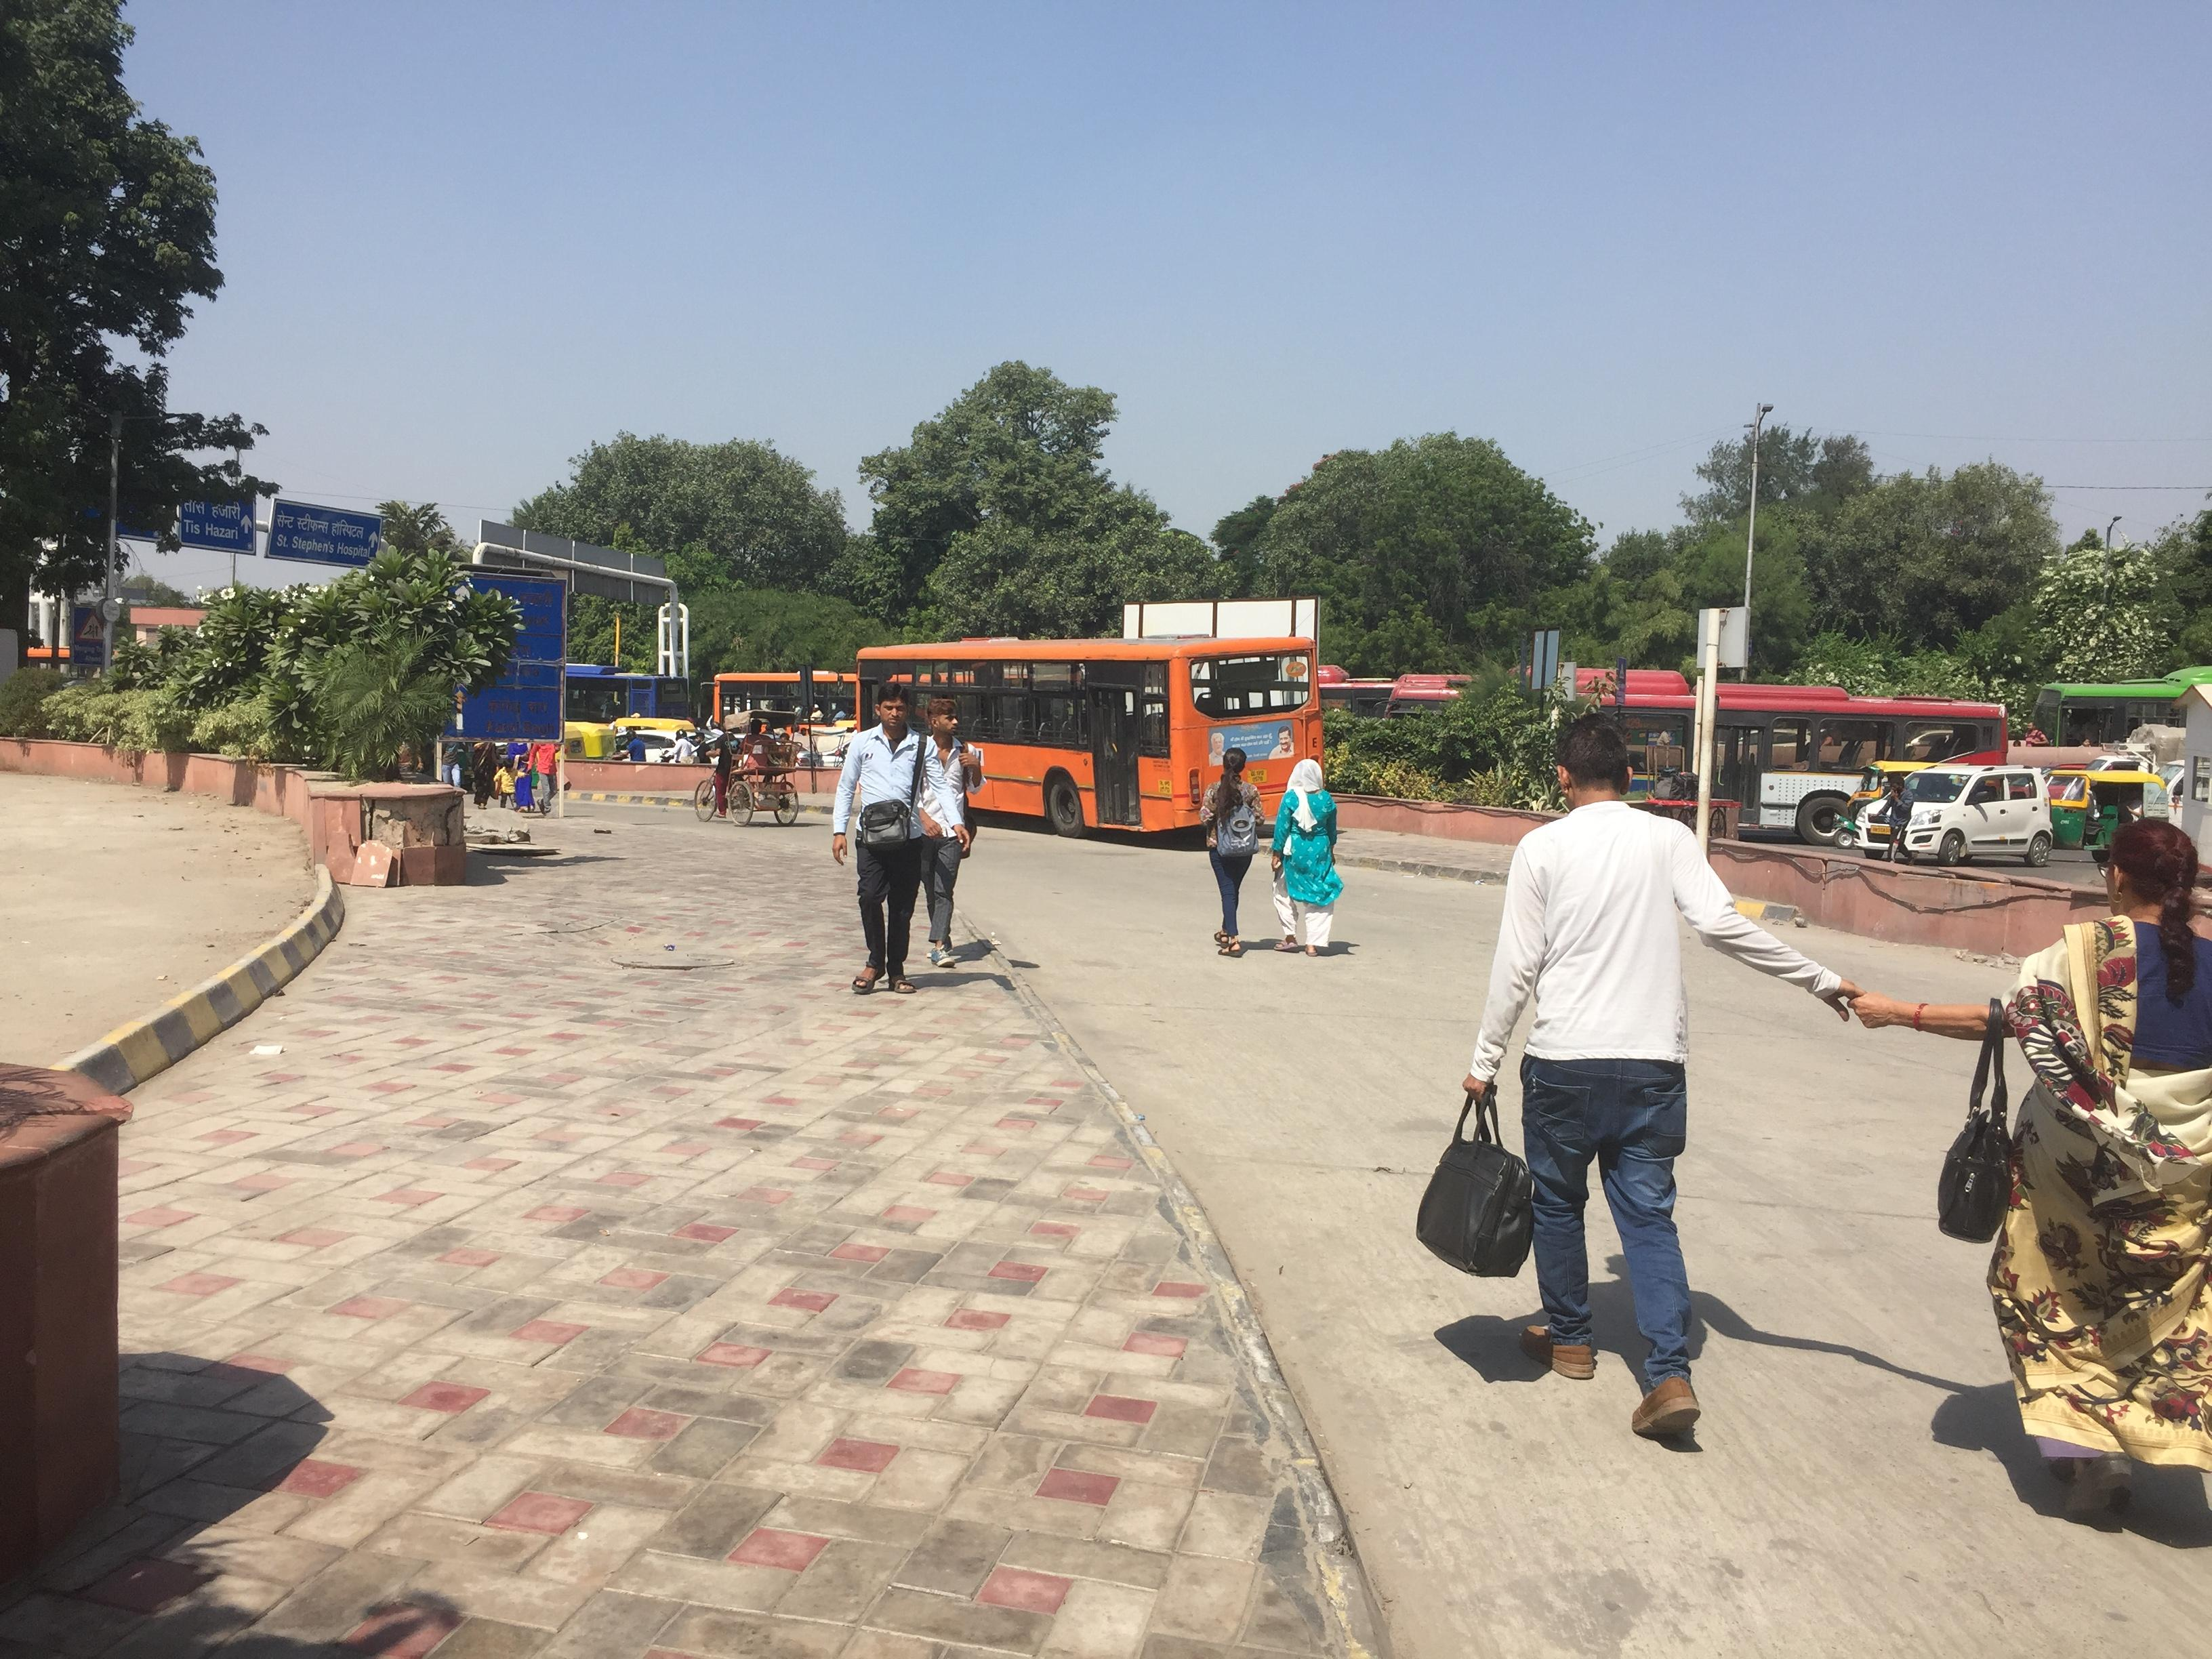Bus: (843, 624, 1355, 850)
